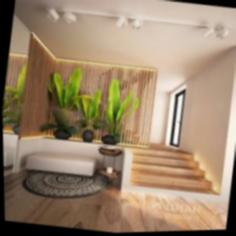Bench: (114, 135, 223, 209)
